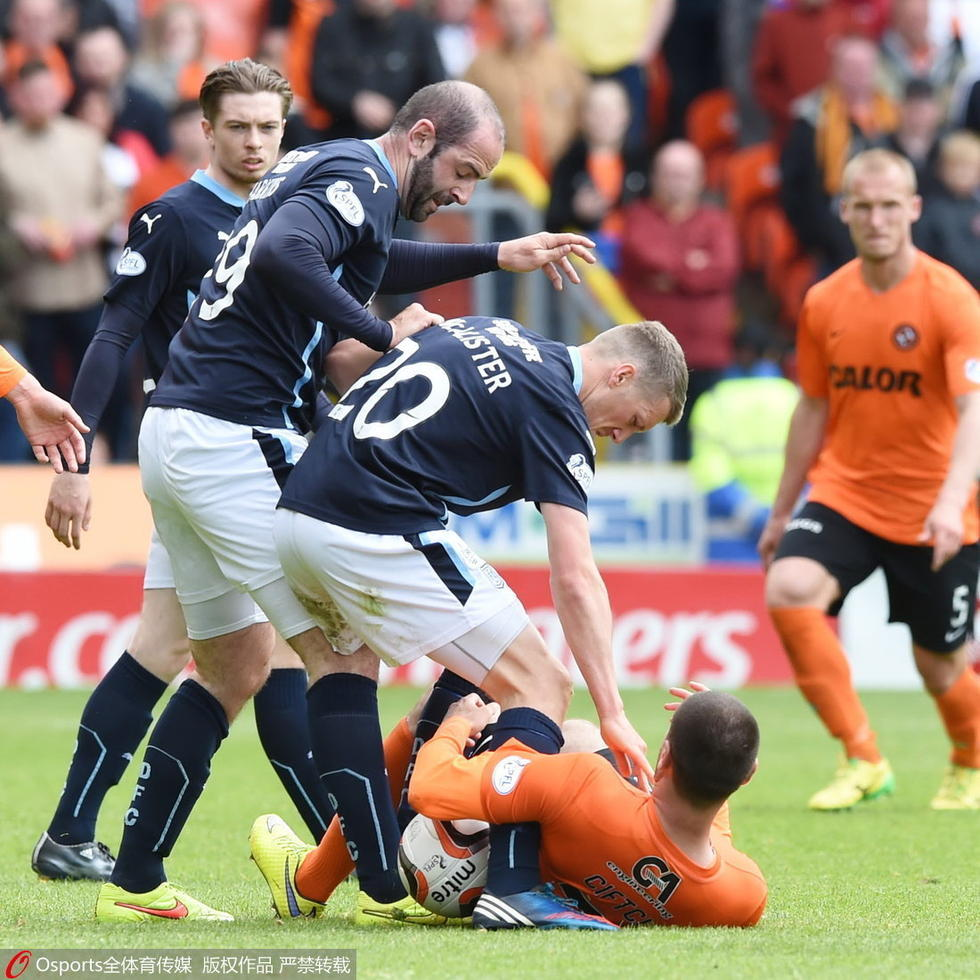10+: (17, 1, 977, 941)
down: (247, 644, 794, 931)
